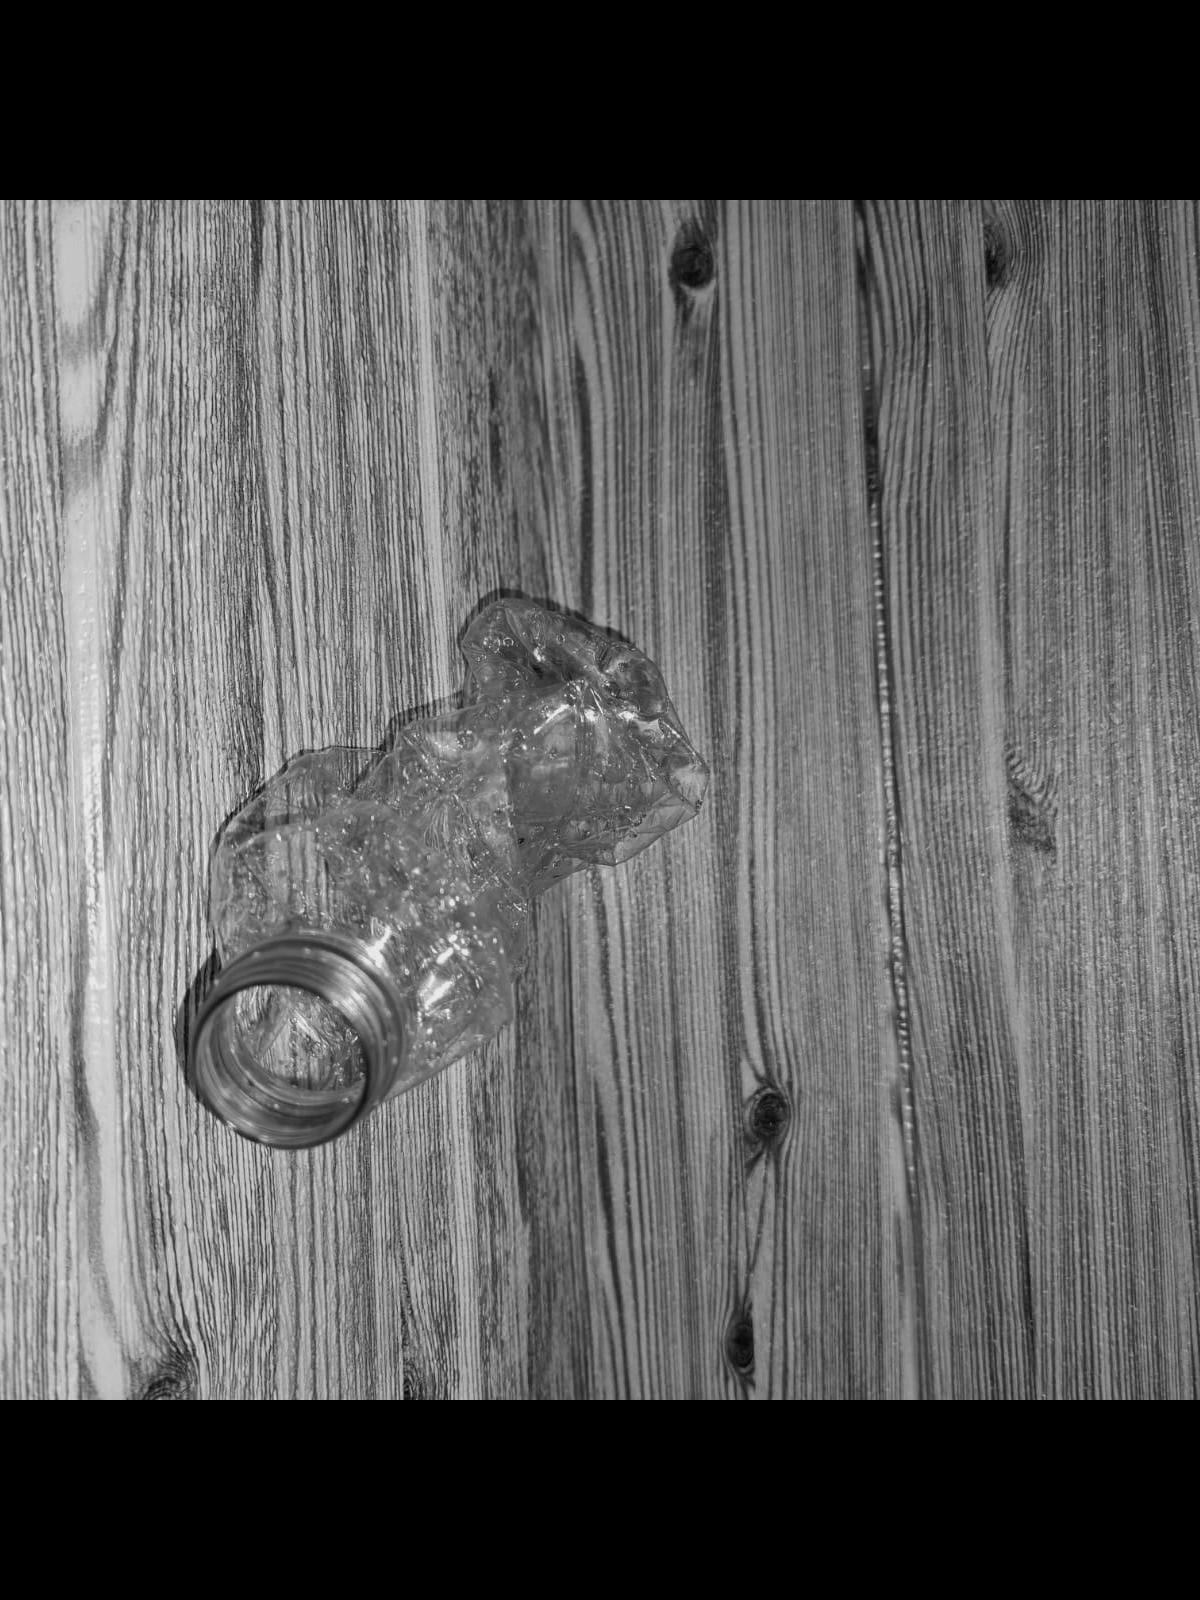bottle: (154, 561, 734, 1154)
